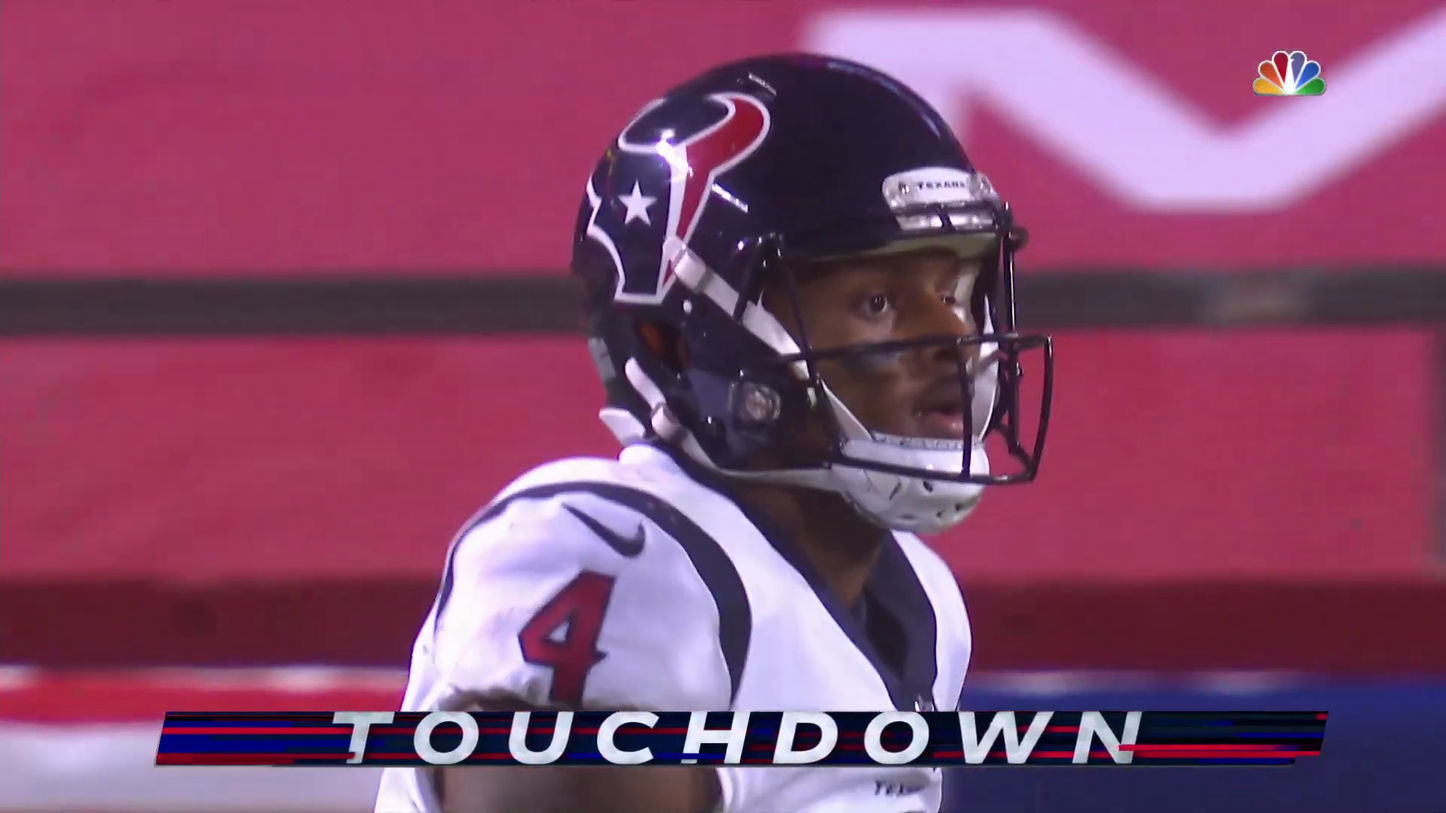Player: (475, 257, 934, 743)
